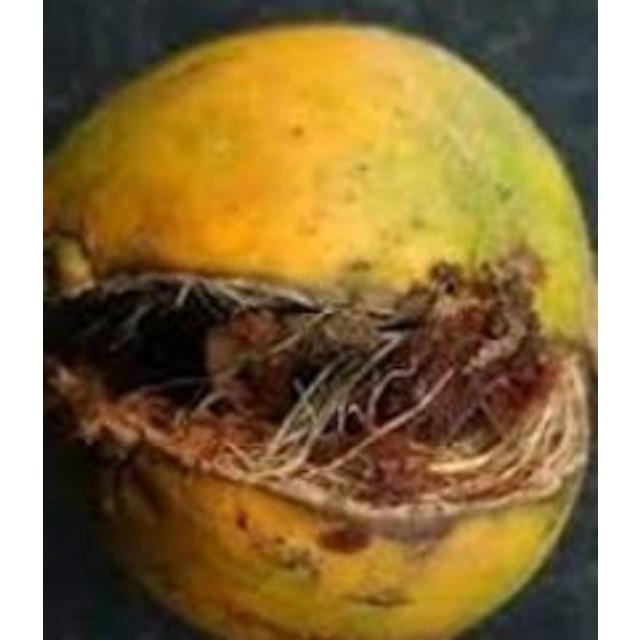damaged: (42, 21, 594, 637)
